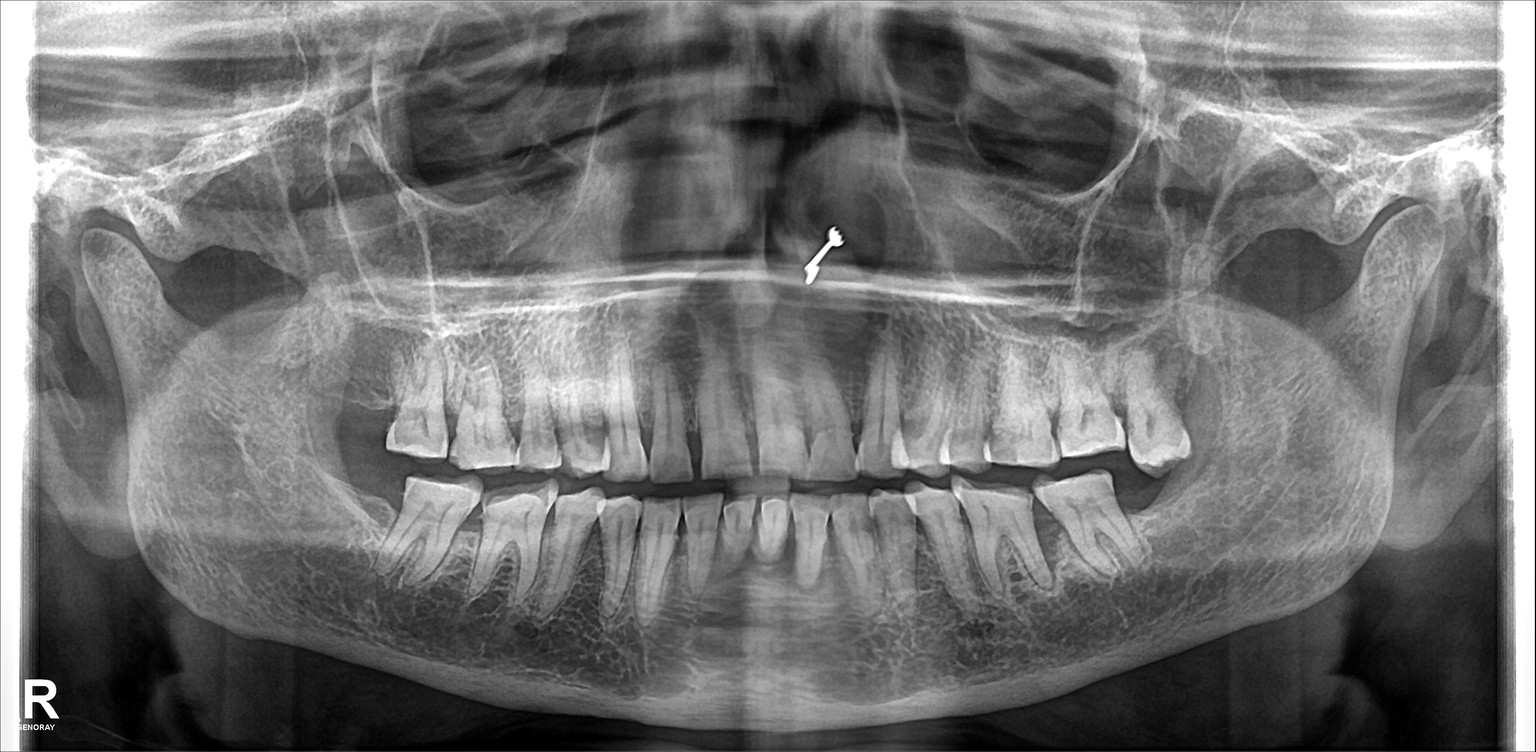Missing Tooth: (335, 463, 393, 557), (343, 337, 393, 434), (1123, 465, 1177, 544)
